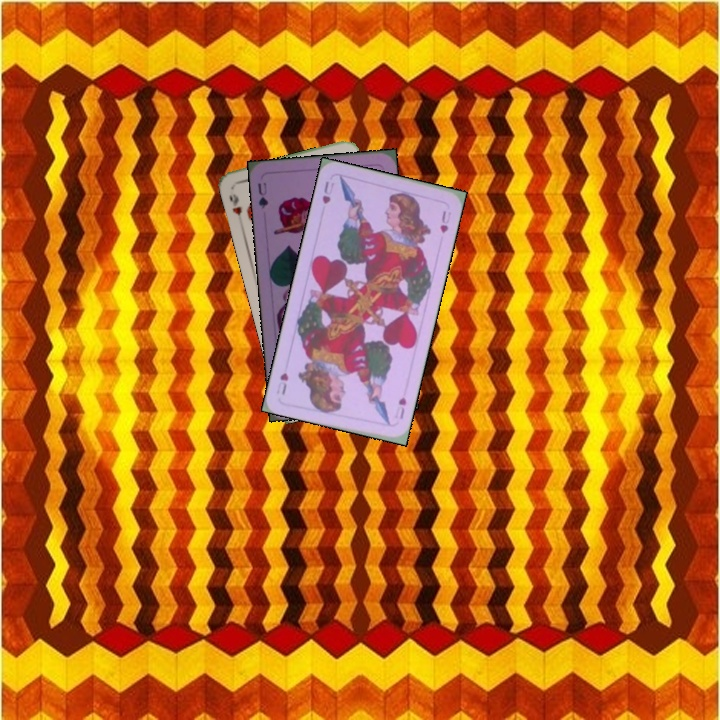GU: (253, 178, 271, 211)
H9: (225, 190, 244, 218)
HU: (318, 177, 337, 206), (394, 393, 409, 422)
